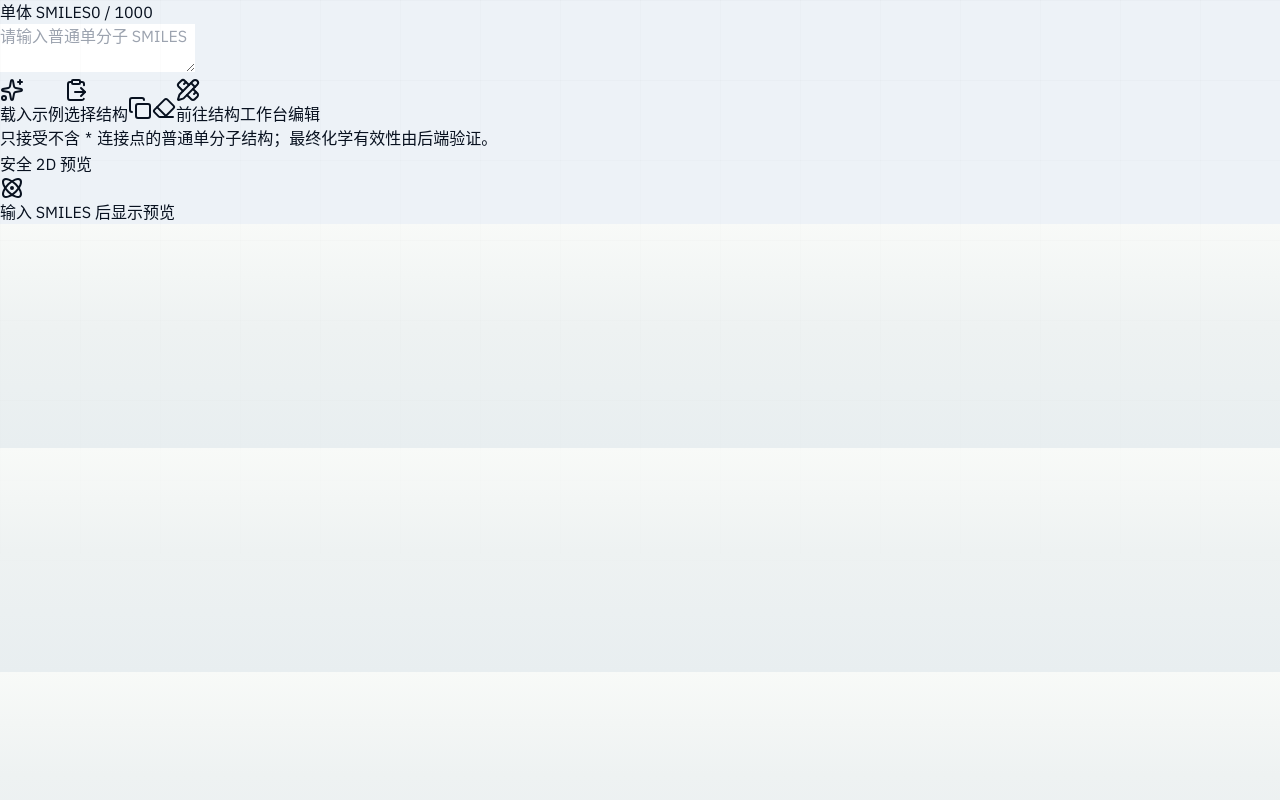
it: MonomerMdStructureInput › imports the current shared structure explicitly
Click the button "选择结构" at [96, 102], box [64,78,128,126]
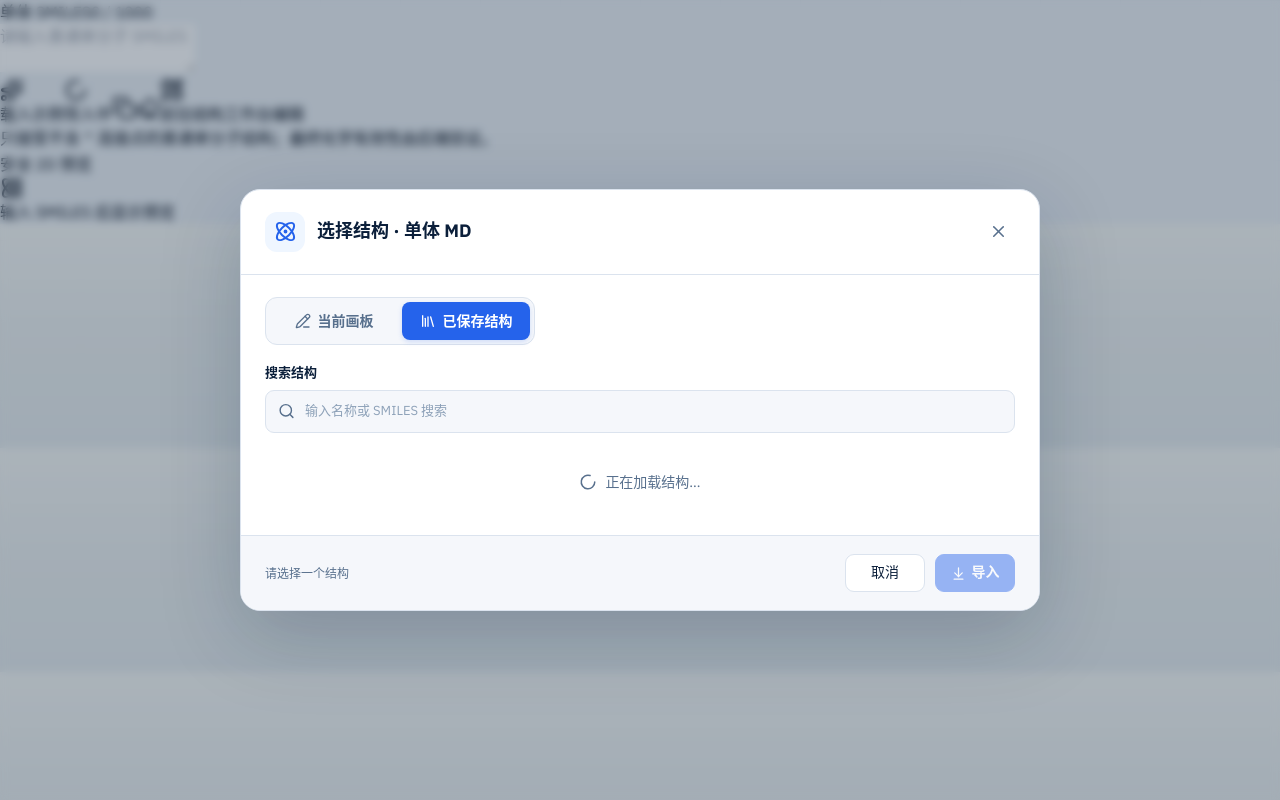
Click the button "当前画板" at [334, 321], box [270,302,398,340]
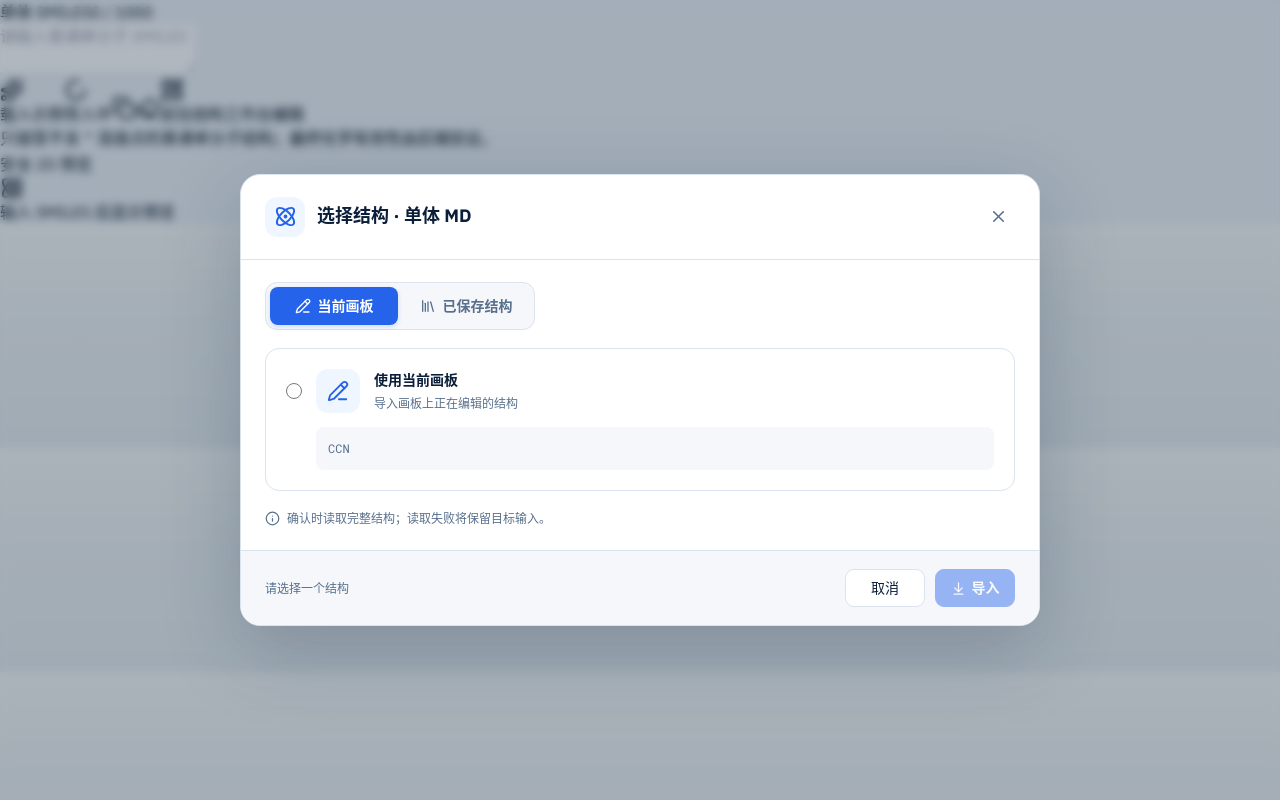
Click the radio button labelled "使用当前画板" at [294, 391], box [286,383,302,399]
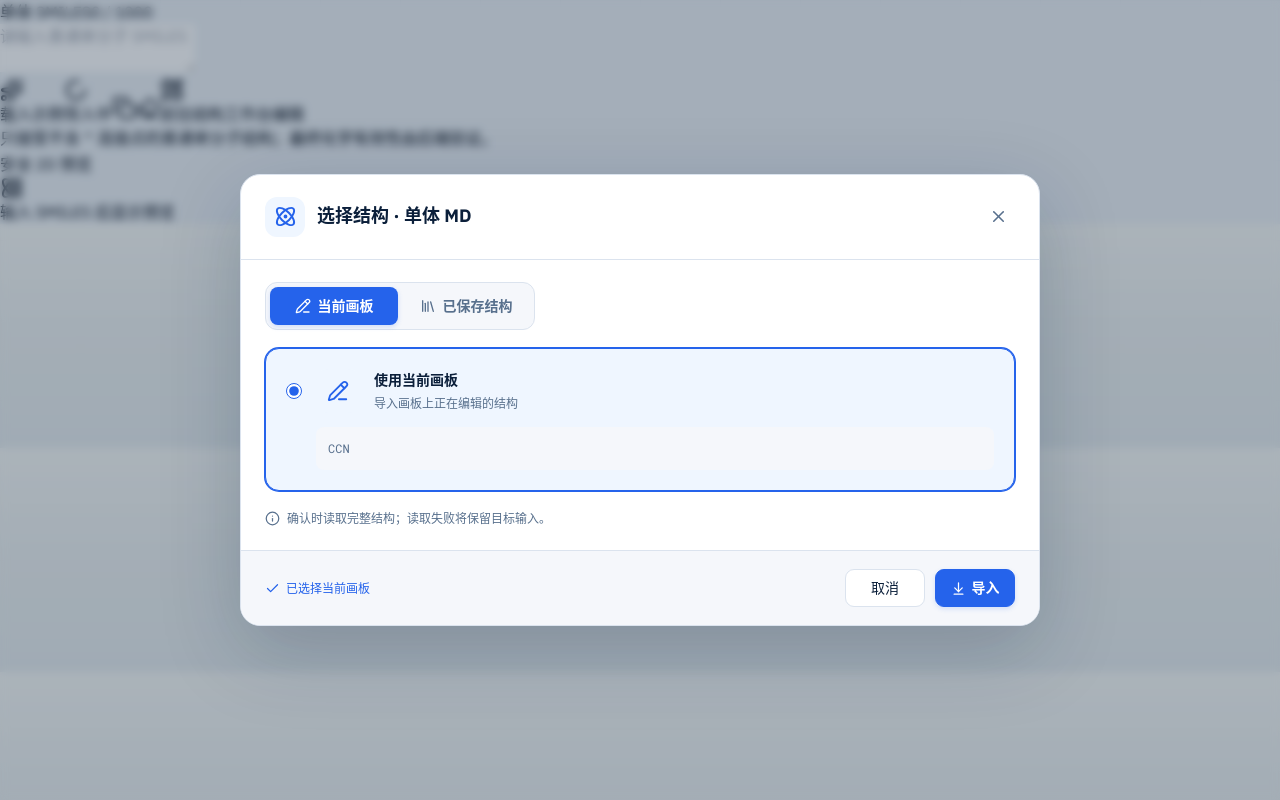
Click the button "导入" at [975, 588], box [935,569,1015,607]
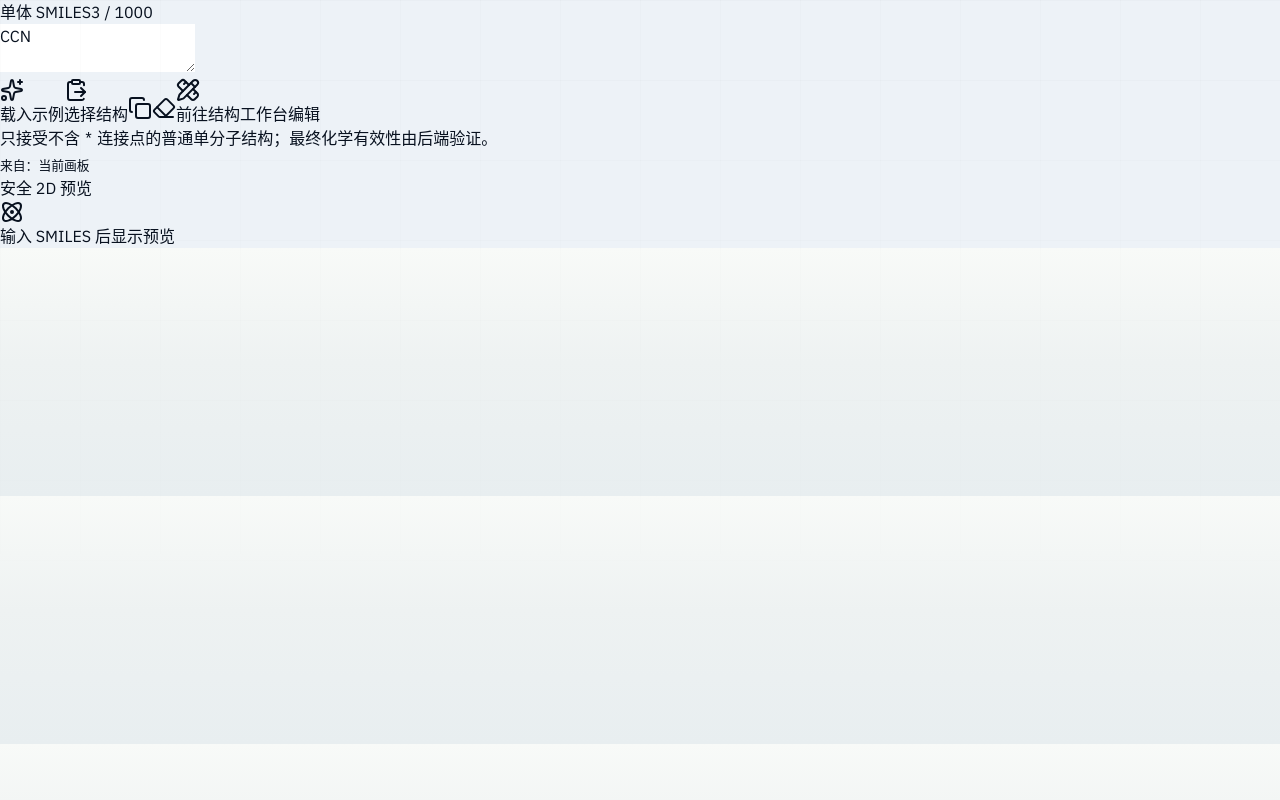
Check: the text box labelled "单体 SMILES" holds "CCN", box [0,24,195,72]
